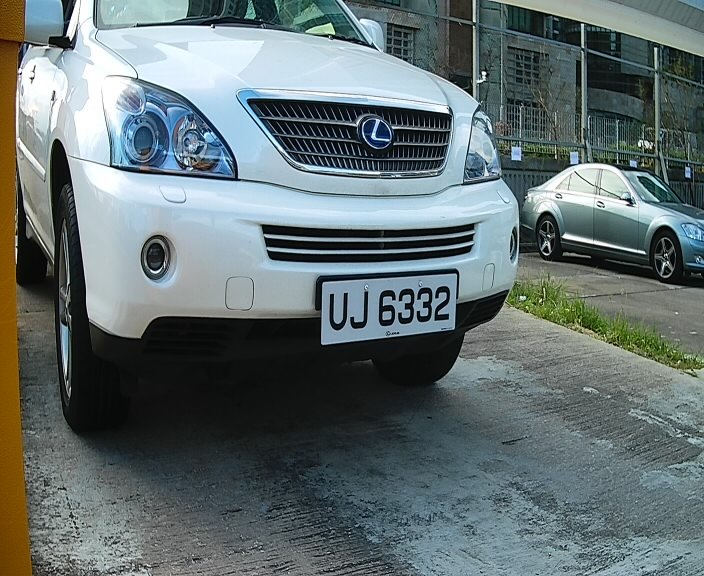License Plate: (306, 264, 471, 353)
